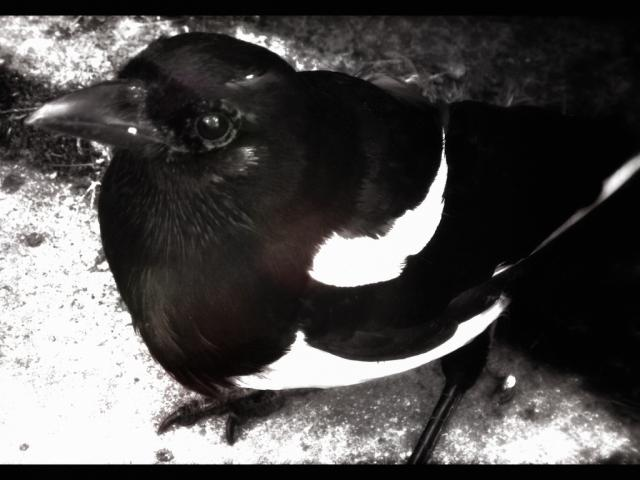Bird: (22, 31, 639, 466)
